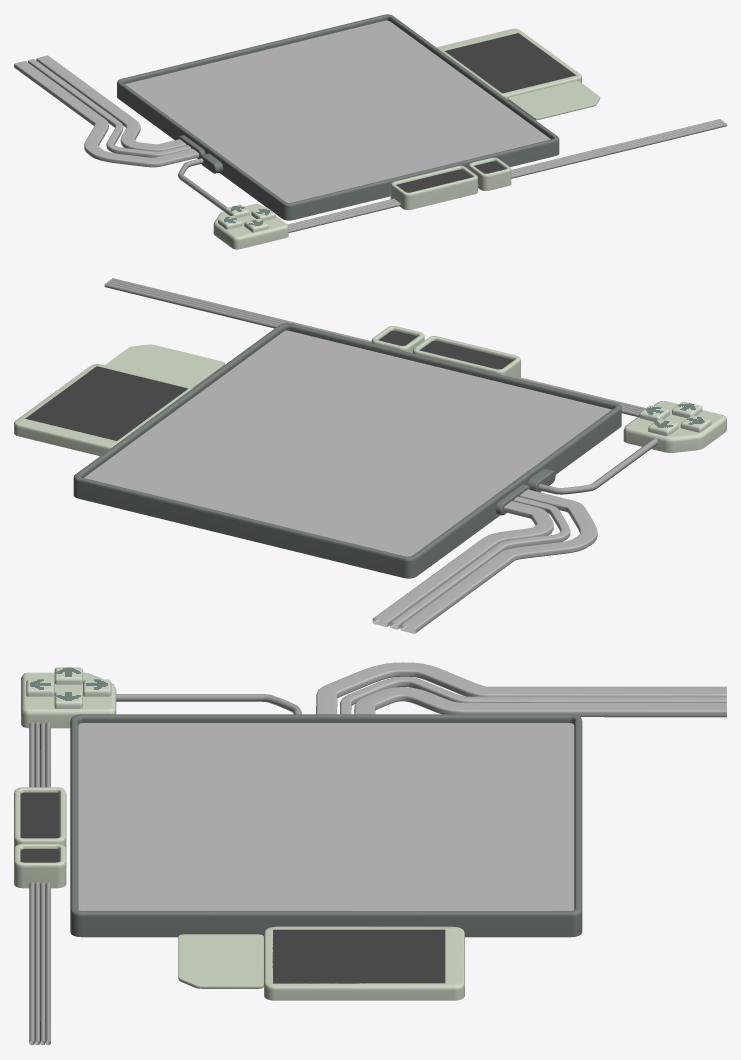
Rendered from meshLevelTemplate_12x12.fbx.
3 views of the same model, one above another, from view 1: azimuth 30°, elevation 25°; view 2: azimuth 150°, elevation 25°; view 3: azimuth 270°, elevation 25° (orthographic). The views are drawn at different scales.
Parts seen in each view (by area): view 1: meshTiles, meshTilesBorder, meshWire, meshPhoneScreen, meshControllerWireB, meshPhoneCard, meshComboBody, meshControllerBody, meshPhoneBody, meshMixBody, meshComboScreen, meshControllerWireA; view 2: meshTiles, meshTilesBorder, meshWire, meshPhoneScreen, meshPhoneCard, meshPhoneBody, meshControllerWireB, meshControllerBody, meshComboBody, meshComboScreen, meshControllerWireA, meshMixBody; view 3: meshTiles, meshTilesBorder, meshWire, meshPhoneScreen, meshPhoneBody, meshControllerWireB, meshPhoneCard, meshControllerBody, meshComboScreen, meshMixBody, meshControllerWireA, meshComboBody.
Boxes of the visible parts, x1,y1,x2,y2 form: meshTiles: [125, 20, 550, 202]; meshTilesBorder: [117, 14, 559, 220]; meshWire: [14, 55, 199, 167]; meshPhoneScreen: [444, 33, 576, 93]; meshControllerWireB: [287, 119, 726, 232]; meshPhoneCard: [508, 81, 600, 120]; meshComboBody: [390, 165, 477, 209]; meshControllerBody: [213, 204, 288, 249]; meshPhoneBody: [437, 28, 581, 99]; meshMixBody: [468, 157, 511, 190]; meshComboScreen: [396, 169, 471, 192]; meshControllerWireA: [178, 158, 227, 211]; meshTiles: [84, 330, 611, 556]; meshTilesBorder: [73, 323, 621, 578]; meshWire: [372, 489, 597, 633]; meshPhoneScreen: [25, 366, 188, 440]; meshPhoneCard: [105, 344, 224, 387]; meshPhoneBody: [14, 364, 193, 455]; meshControllerWireB: [104, 278, 645, 416]; meshControllerBody: [623, 401, 726, 452]; meshComboBody: [413, 336, 520, 378]; meshComboScreen: [420, 340, 513, 369]; meshControllerWireA: [538, 438, 658, 494]; meshMixBody: [371, 326, 424, 353]; meshTiles: [78, 723, 574, 910]; meshTilesBorder: [70, 714, 582, 937]; meshWire: [316, 662, 726, 717]; meshPhoneScreen: [272, 929, 445, 983]; meshPhoneBody: [264, 926, 464, 1000]; meshControllerWireB: [29, 722, 50, 1045]; meshPhoneCard: [178, 934, 263, 988]; meshControllerBody: [21, 672, 116, 728]; meshComboScreen: [20, 792, 59, 838]; meshMixBody: [14, 843, 66, 888]; meshControllerWireA: [116, 694, 301, 714]; meshComboBody: [14, 787, 66, 849].
Size of what is drawn, in the model's own units: 23.02 by 0.6888 by 18.68.
